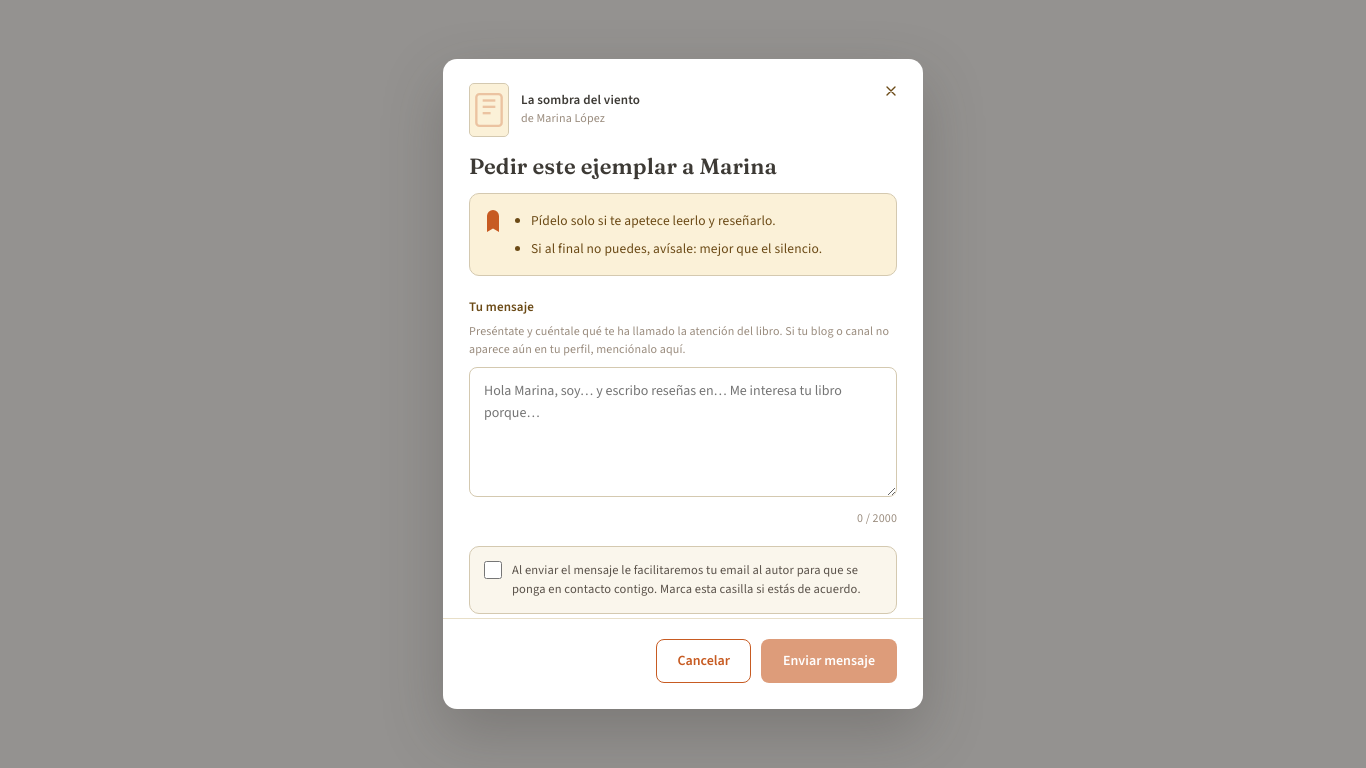
Test: ContactModal — send button enable logic › re-disables immediately when the message is cleared
Click the checkbox labelled "Al enviar el mensaje le facilitaremos tu email" at x=493, y=570, box [484,561,502,579]
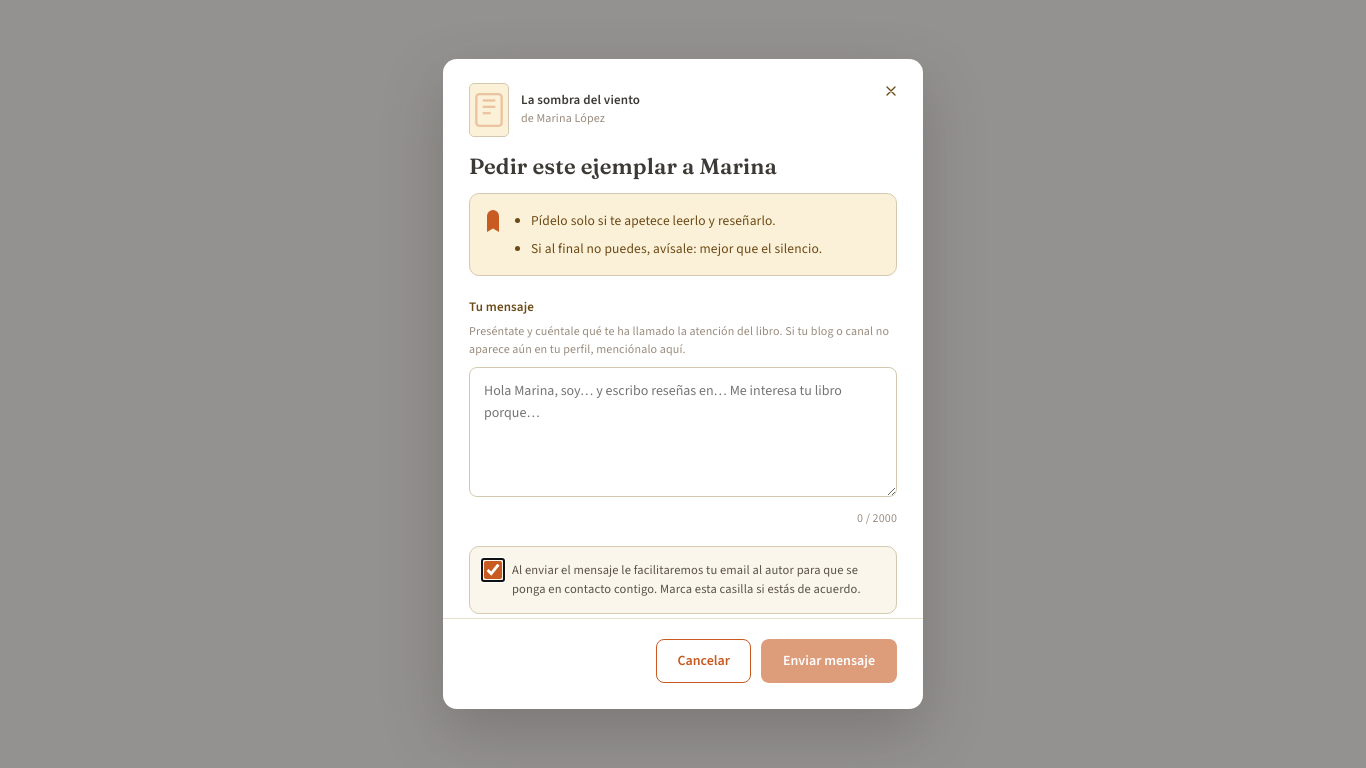
Type "Hola" into the text box labelled "Tu mensaje" at x=683, y=432, box [469,367,897,497]
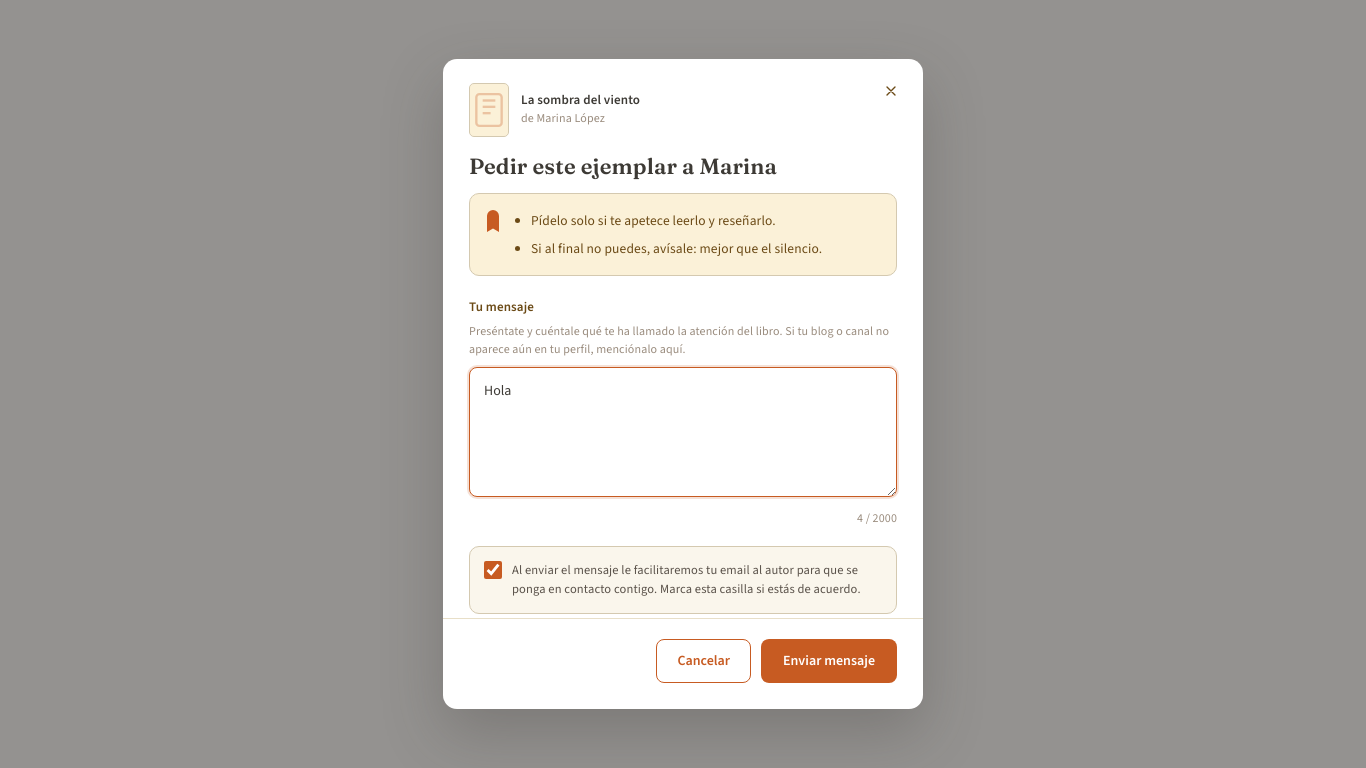
Check: the button "Enviar mensaje" is enabled, box [761,639,897,683]
Clear the text box labelled "Tu mensaje" at x=683, y=432, box [469,367,897,497]
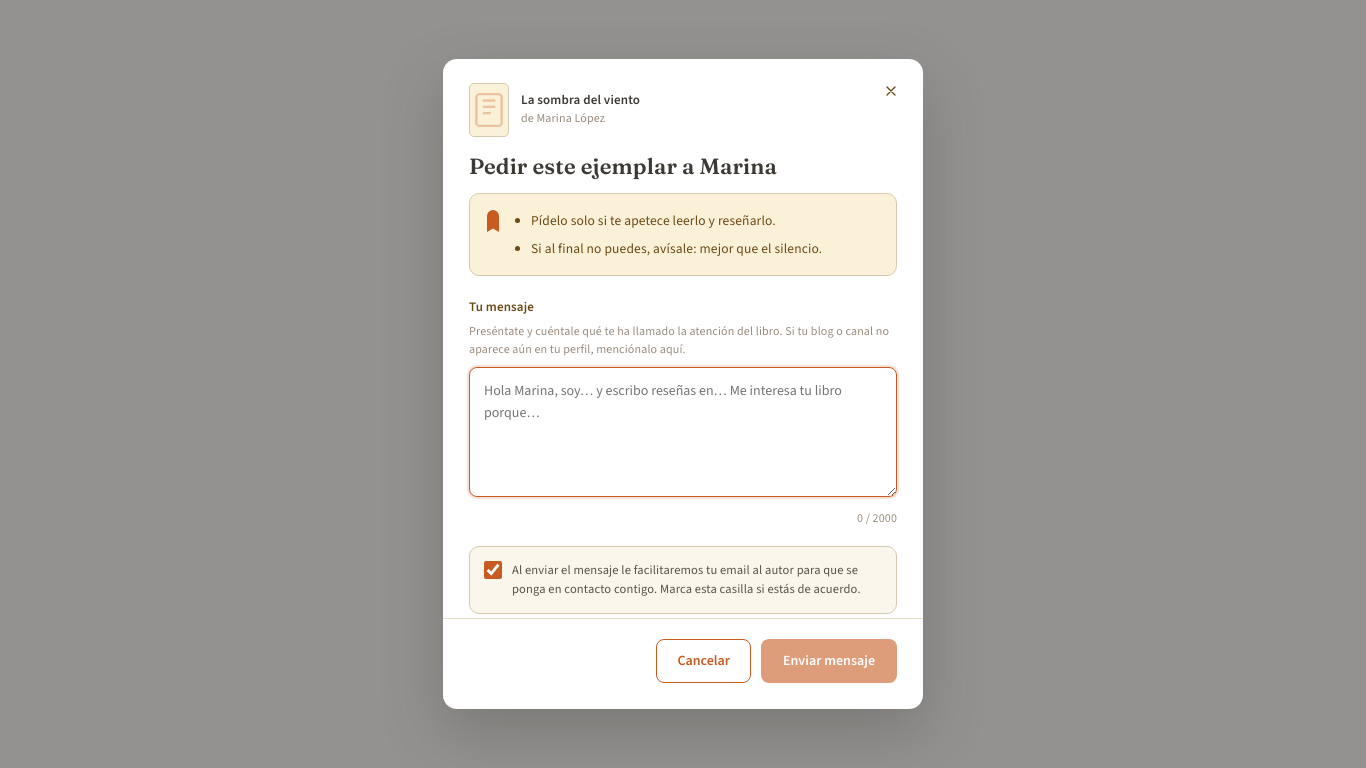
Check: the button "Enviar mensaje" is disabled, box [761,639,897,683]
